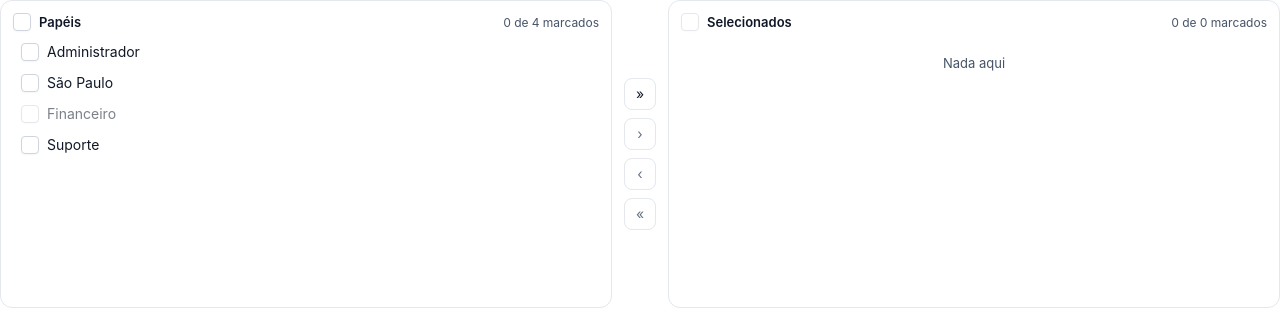
Test: Transfer › checks and unchecks a whole pane from its header box
Click the checkbox named "Papéis": (22, 22) [13,13,31,31]
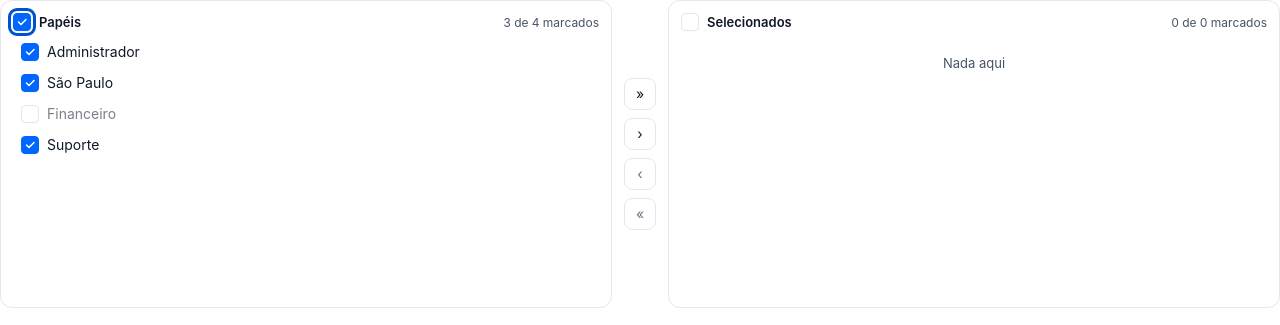
Expected: the text "3 de 4 marcados" is shown, [503,14,599,30]
Click the checkbox named "Papéis": (22, 22) [13,13,31,31]
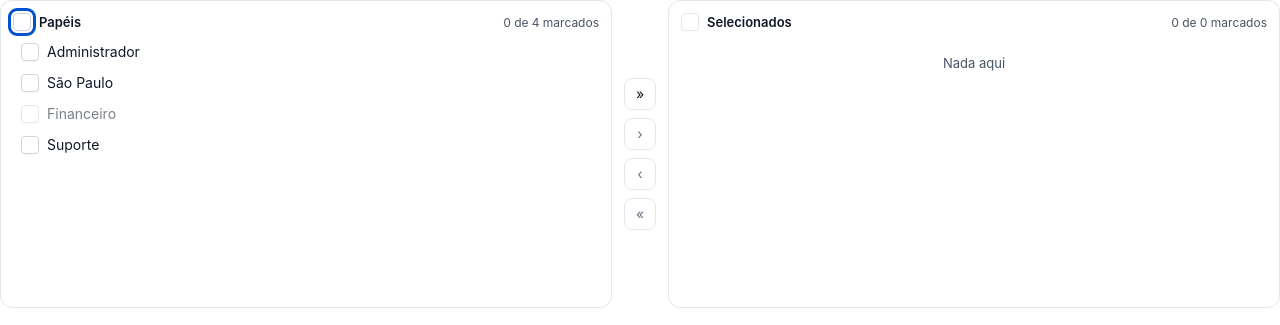
Expected: the text "0 de 4 marcados" is shown, [503,14,599,30]
